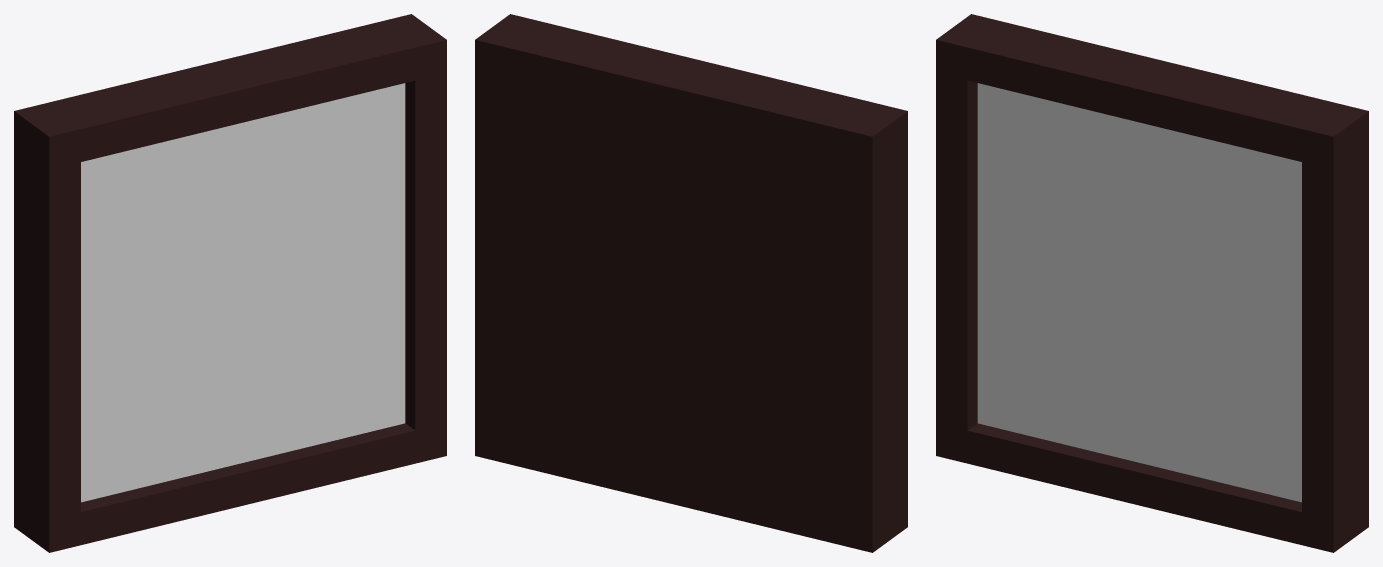
Rendered from PaintingSquare_Small.fbx.
3 renders of one model, left to right at view 1: azimuth 30°, elevation 25°; view 2: azimuth 150°, elevation 25°; view 3: azimuth 330°, elevation 25°, orthographic.
Parts seen in each view (by area): view 1: PaitingSquare_Small; view 2: PaitingSquare_Small; view 3: PaitingSquare_Small.
Part boxes in pixels (x1=…): PaitingSquare_Small: x1=14, y1=14, x2=446, y2=552; PaitingSquare_Small: x1=475, y1=14, x2=907, y2=552; PaitingSquare_Small: x1=936, y1=14, x2=1368, y2=552.
Size of the model in its own units: 38.52 by 38.52 by 5.92.
